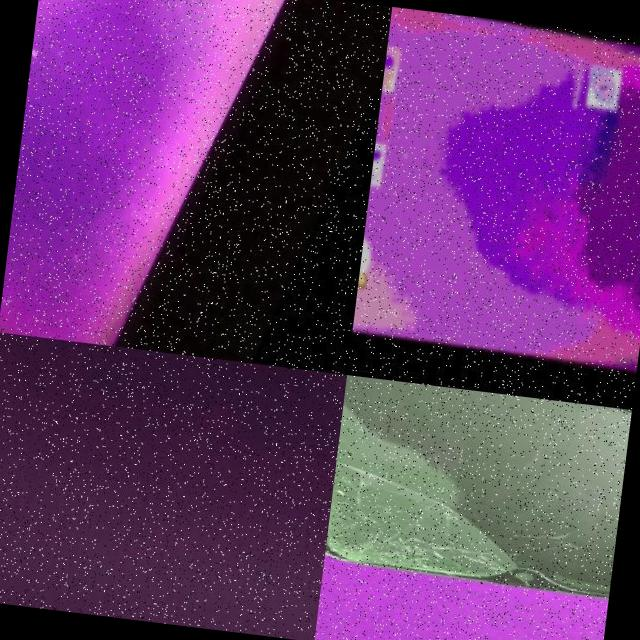screen crack: (325, 403, 628, 627)
